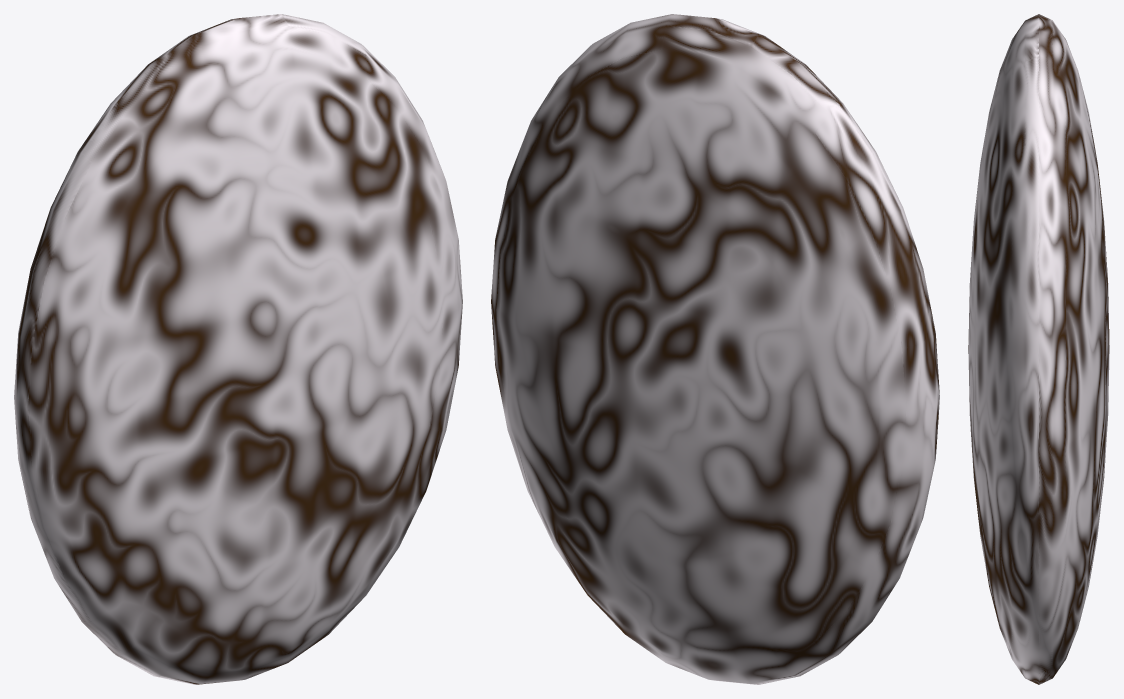
Rendered from schokolinse.fbx.
3 renders of one model, left to right at view 1: azimuth 30°, elevation 25°; view 2: azimuth 150°, elevation 25°; view 3: azimuth 270°, elevation 25°, orthographic. The views are drawn at different scales.
Visible parts, largest first — view 1: Sphere; view 2: Sphere; view 3: Sphere.
Part boxes in pixels (left/top/right/bottom): Sphere: left=14, top=14, right=462, bottom=684; Sphere: left=491, top=14, right=939, bottom=684; Sphere: left=968, top=14, right=1109, bottom=684.
Size of the model in its own units: 1.4 by 2 by 0.4.
Materials: 1 (1 with a texture image).
